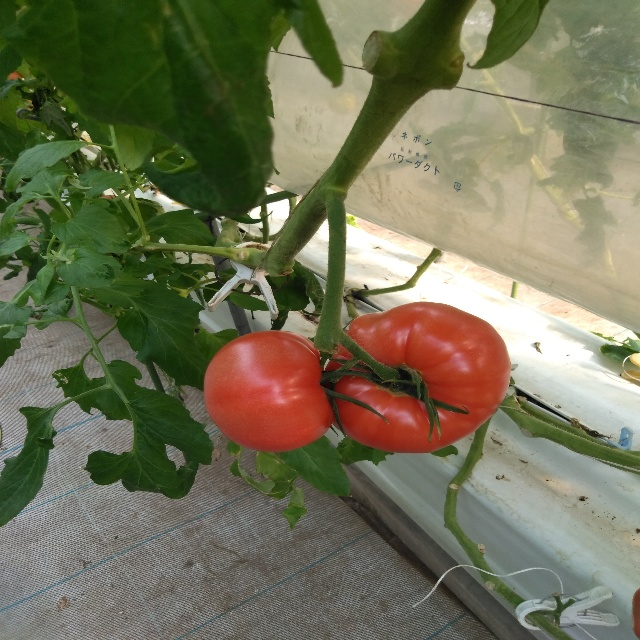b_fully_ripened: (325, 301, 512, 453), (202, 330, 335, 453)
